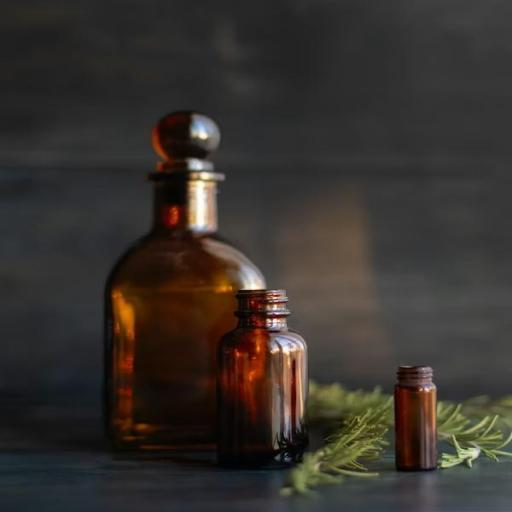bottle: (101, 102, 322, 480)
